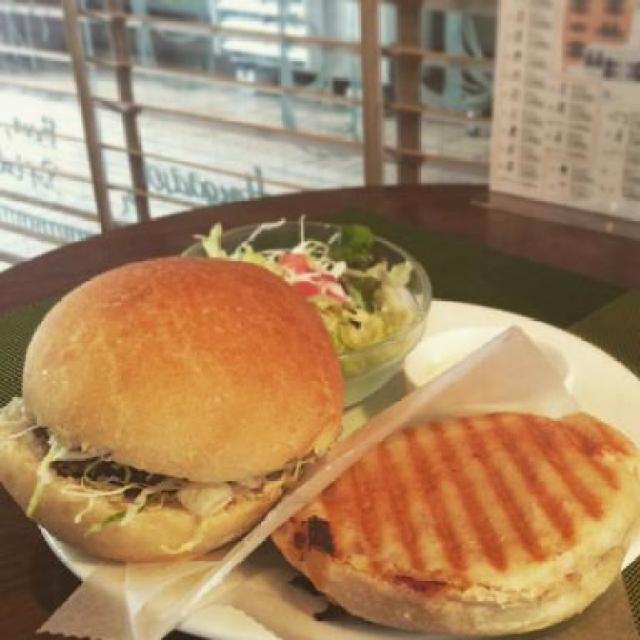Hamburger: (0, 254, 342, 562)
